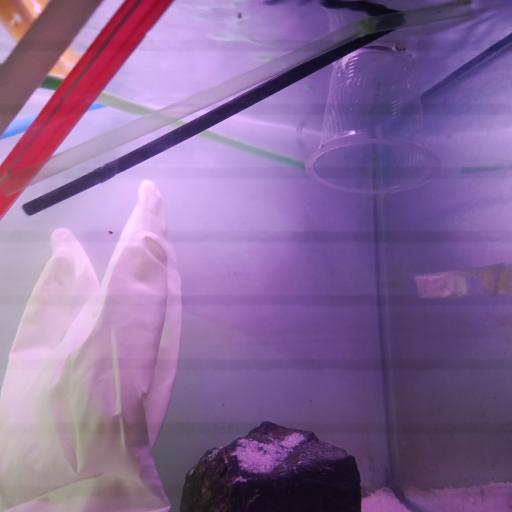glove: (0, 178, 184, 512)
plastic_cup: (305, 48, 441, 195)
plastic_straw: (1, 0, 484, 197), (22, 28, 395, 217), (0, 0, 174, 220), (39, 73, 305, 170), (0, 0, 102, 136), (0, 100, 105, 140)
